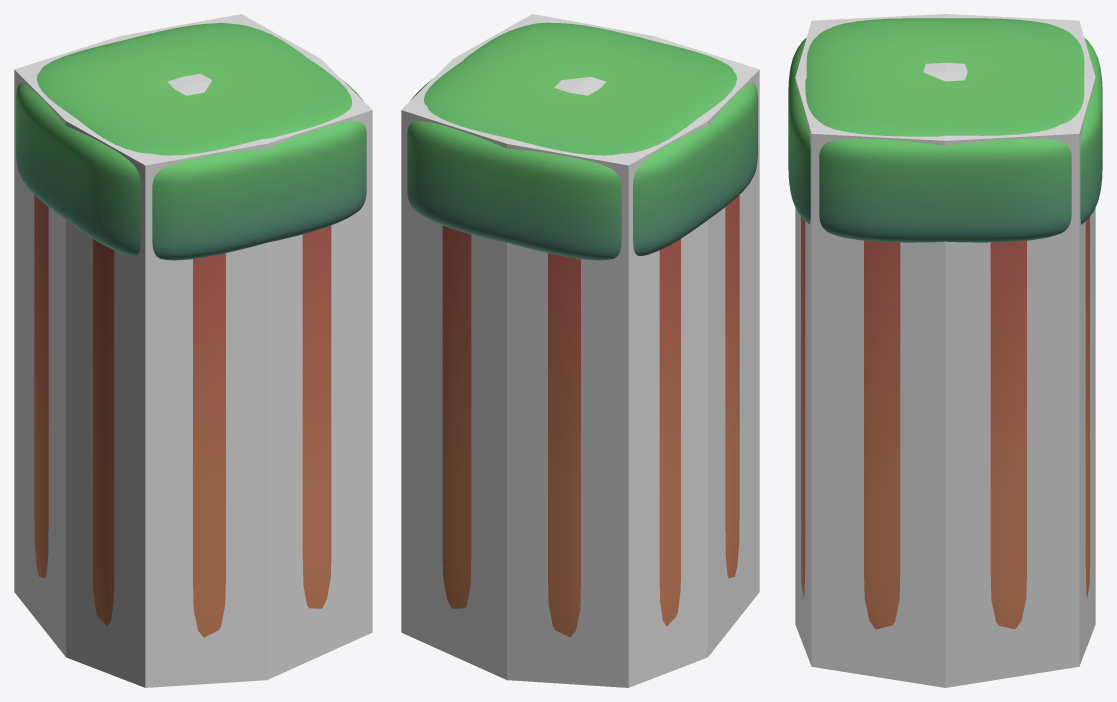
File: PlatformSmallMedium.glb
3 views of the same model, side by side, from view 1: azimuth 30°, elevation 25°; view 2: azimuth 150°, elevation 25°; view 3: azimuth 270°, elevation 25° (orthographic). The views are drawn at different scales.
Visible parts, largest first — view 1: colision-colonly.005, PlatformSmallMedium; view 2: colision-colonly.005, PlatformSmallMedium; view 3: colision-colonly.005, PlatformSmallMedium.
Part boxes in pixels (x1,y1,x2,y2): colision-colonly.005: (14, 14, 372, 687); PlatformSmallMedium: (16, 23, 366, 637); colision-colonly.005: (401, 14, 759, 687); PlatformSmallMedium: (407, 22, 757, 637); colision-colonly.005: (795, 14, 1095, 687); PlatformSmallMedium: (788, 18, 1102, 629).
Size of the model in its own units: 2 by 3.89 by 2.
Materials: 1 (1 with a texture image).
